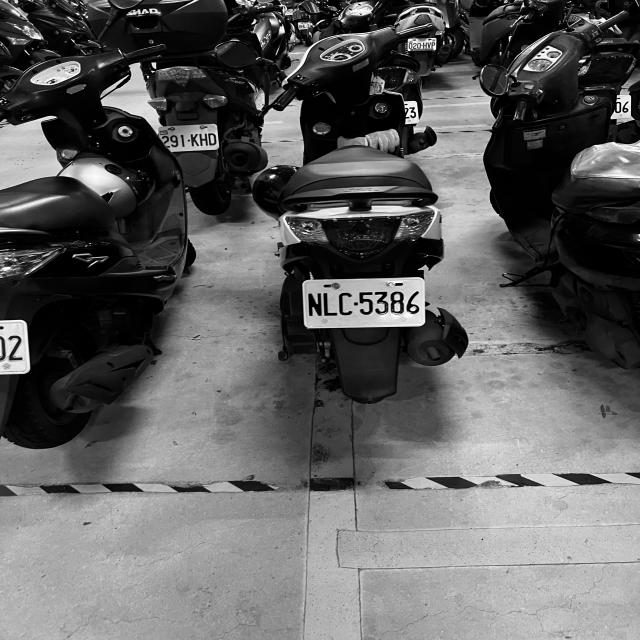-: (354, 301, 359, 307), (421, 44, 423, 46)
0: (616, 102, 622, 113), (417, 42, 421, 48), (408, 43, 412, 49)
1: (180, 134, 186, 147), (187, 140, 190, 142)
2: (7, 334, 25, 362), (412, 43, 417, 49)
3: (374, 290, 389, 314), (409, 106, 416, 118)
5: (359, 291, 373, 315)
6: (406, 290, 421, 315), (622, 102, 630, 114)
8: (390, 291, 404, 315)
9: (170, 134, 178, 148)
C: (338, 292, 353, 315)
D: (208, 133, 216, 146)
H: (200, 133, 208, 146), (423, 42, 427, 48)
K: (190, 134, 198, 146)
L: (323, 292, 338, 316)
N: (308, 292, 324, 316)
P: (432, 42, 436, 48)
V: (427, 42, 431, 48)
plate: (304, 280, 424, 324), (408, 39, 436, 50)
